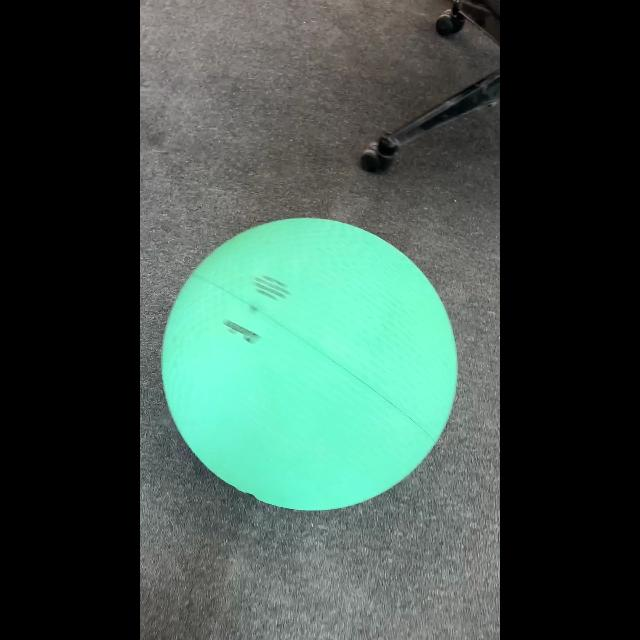ALGAE: (160, 216, 460, 512)
